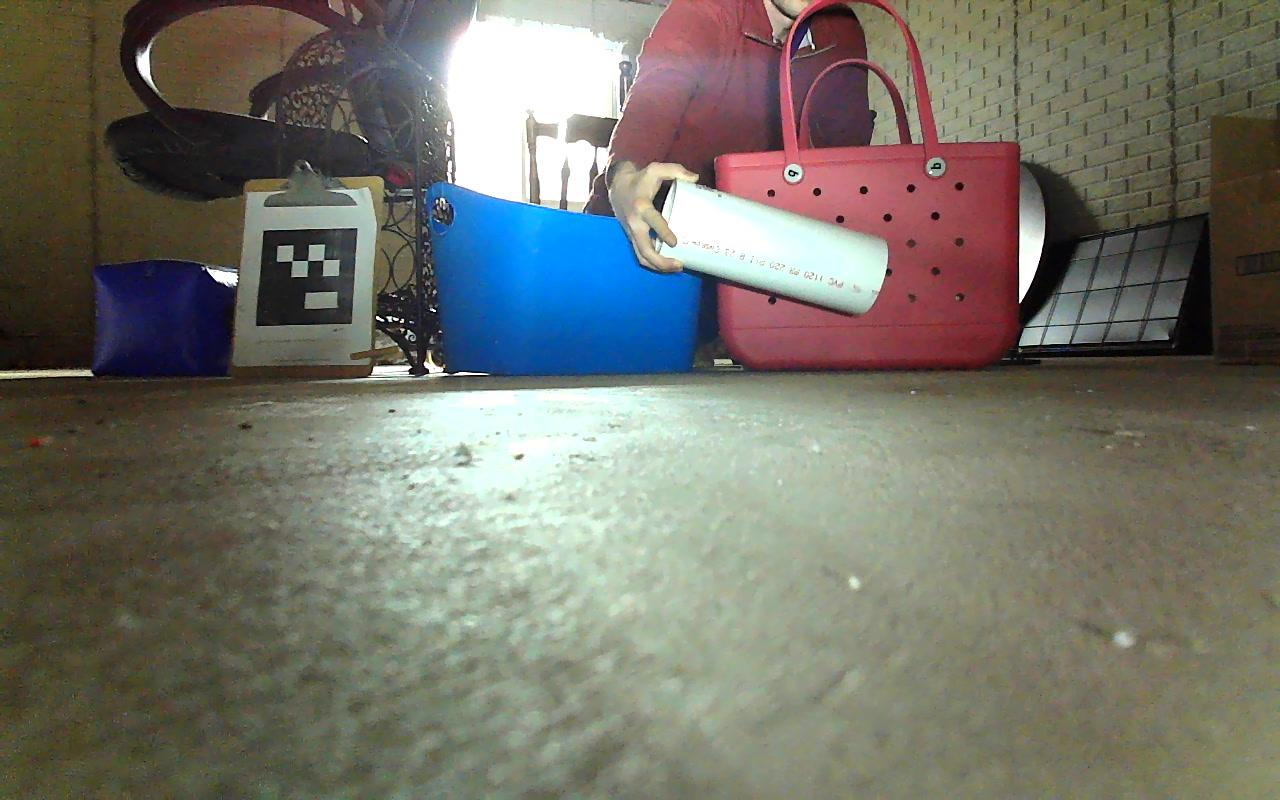coral: (657, 170, 890, 314)
